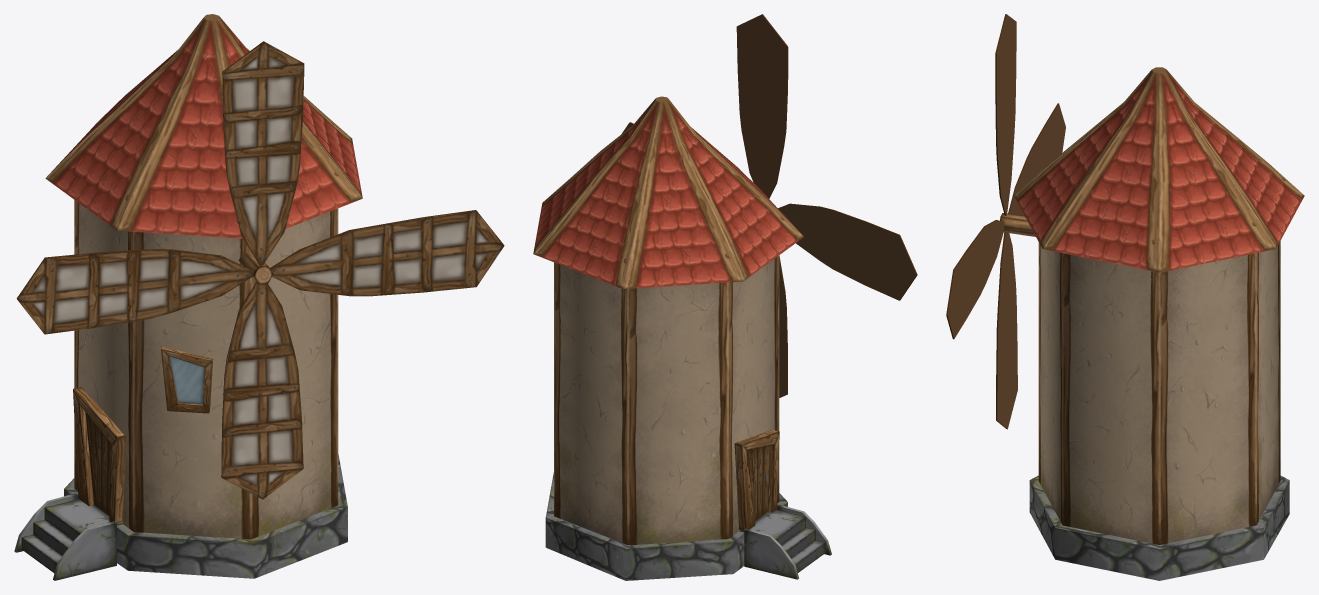
File: Farm.fbx
The picture shows the model from 3 angles, left to right: view 1: azimuth 30°, elevation 25°; view 2: azimuth 150°, elevation 25°; view 3: azimuth 270°, elevation 25°; orthographic projection. The views are drawn at different scales.
Parts seen in each view (by area): view 1: wind_mill.002; view 2: wind_mill.002; view 3: wind_mill.002.
Boxes of the visible parts, <box> form: wind_mill.002: <box>14,14,504,580</box>; wind_mill.002: <box>533,14,917,580</box>; wind_mill.002: <box>946,14,1304,580</box>.
Size of the model in its own units: 53.58 by 66.71 by 43.45.
2 materials, 1 textured.
